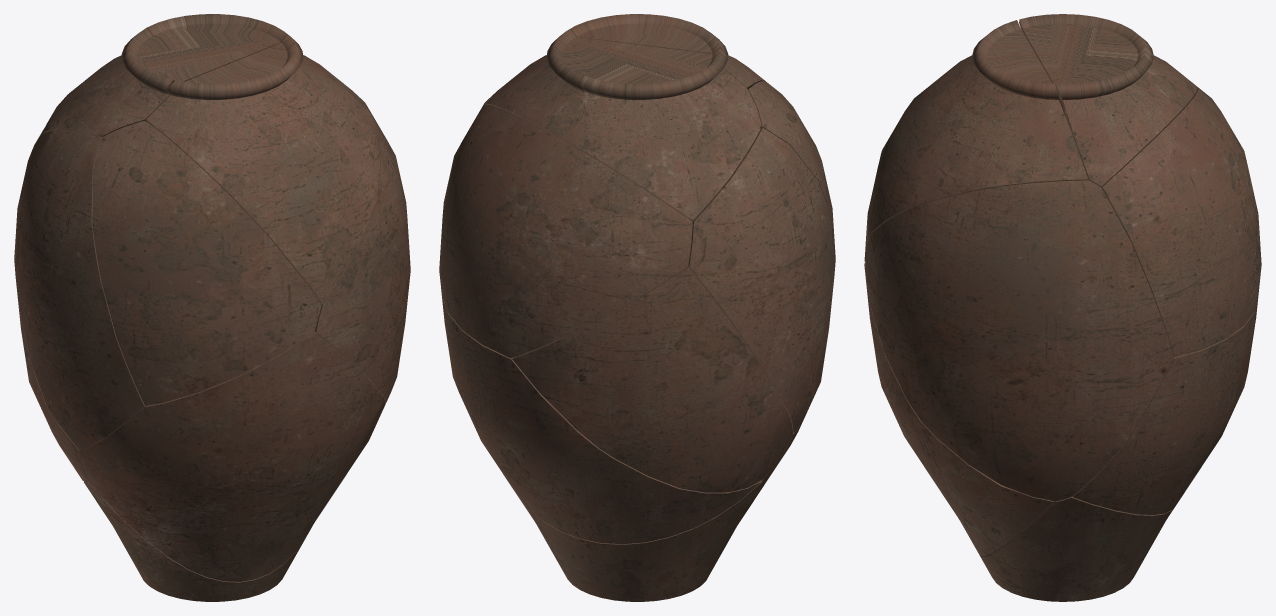
Rendered from pot_fractured.gltf.
The picture shows the model from 3 angles, left to right: view 1: azimuth 30°, elevation 25°; view 2: azimuth 150°, elevation 25°; view 3: azimuth 270°, elevation 25°; orthographic projection.
Visible parts, largest first — view 1: Sphere_cell.003, Sphere_cell.004, Sphere_cell, Sphere_cell.007, Sphere_cell.008, Sphere_cell.002, Sphere_cell.005, Sphere_cell.001; view 2: Sphere_cell.009, Sphere_cell.001, Sphere_cell.008, Sphere_cell.007, Sphere_cell.006, Sphere_cell.005, Sphere_cell, Sphere_cell.004; view 3: Sphere_cell.002, Sphere_cell.009, Sphere_cell, Sphere_cell.008, Sphere_cell.006, Sphere_cell.005, Sphere_cell.003.
Boxes of the visible parts, left/top/right/bottom form: Sphere_cell.003: left=80, top=332, right=385, bottom=581; Sphere_cell.004: left=92, top=120, right=321, bottom=405; Sphere_cell: left=146, top=35, right=379, bottom=302; Sphere_cell.007: left=15, top=130, right=144, bottom=450; Sphere_cell.008: left=41, top=14, right=309, bottom=137; Sphere_cell.002: left=314, top=85, right=410, bottom=403; Sphere_cell.005: left=84, top=480, right=306, bottom=601; Sphere_cell.001: left=14, top=234, right=86, bottom=478; Sphere_cell.009: left=439, top=104, right=692, bottom=357; Sphere_cell.001: left=512, top=267, right=793, bottom=492; Sphere_cell.008: left=486, top=29, right=761, bottom=220; Sphere_cell.007: left=687, top=127, right=835, bottom=432; Sphere_cell.006: left=442, top=297, right=761, bottom=544; Sphere_cell.005: left=515, top=482, right=761, bottom=601; Sphere_cell: left=496, top=14, right=765, bottom=92; Sphere_cell.004: left=748, top=81, right=835, bottom=262; Sphere_cell.002: left=865, top=180, right=1173, bottom=501; Sphere_cell.009: left=1101, top=87, right=1261, bottom=356; Sphere_cell: left=867, top=20, right=1087, bottom=240; Sphere_cell.008: left=1019, top=14, right=1197, bottom=186; Sphere_cell.006: left=1072, top=311, right=1255, bottom=514; Sphere_cell.005: left=979, top=496, right=1175, bottom=601; Sphere_cell.003: left=864, top=263, right=1053, bottom=555.
Size of the model in its own units: 0.6571 by 0.9533 by 0.6571.
1 material, 1 textured.
